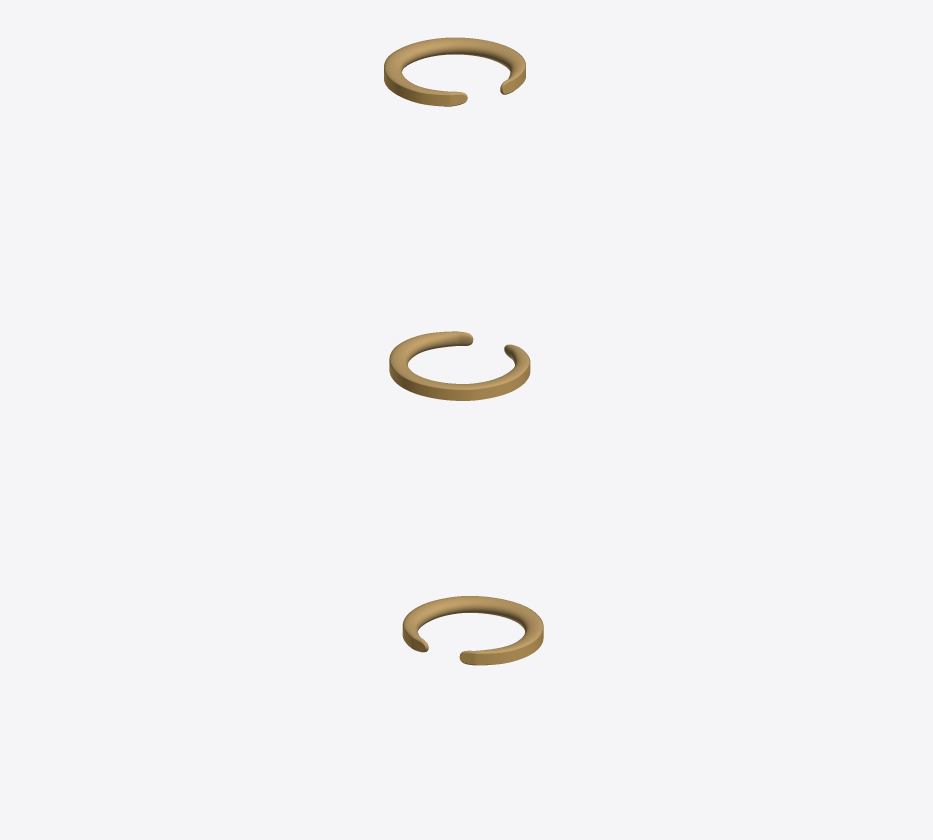
The model's file is ring1.glb.
3 renders of one model, top to bottom at view 1: azimuth 30°, elevation 25°; view 2: azimuth 150°, elevation 25°; view 3: azimuth 330°, elevation 25°, orthographic.
Parts seen in each view (by area): view 1: BézierCurve.002, BézierCurve.003; view 2: BézierCurve.002, BézierCurve.003; view 3: BézierCurve.002, BézierCurve.003.
Boxes of the visible parts, x1,y1,x2,y2 form: BézierCurve.002: (384,37,525,106); BézierCurve.003: (384,45,525,106); BézierCurve.002: (389,331,529,400); BézierCurve.003: (389,339,530,400); BézierCurve.002: (403,596,543,665); BézierCurve.003: (402,604,543,664).
Size of the model in its own units: 3.78 by 0.3265 by 0.4792.
3 materials, 2 textured.
